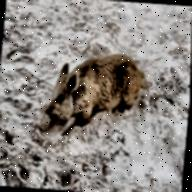boar: (37, 50, 154, 138)
